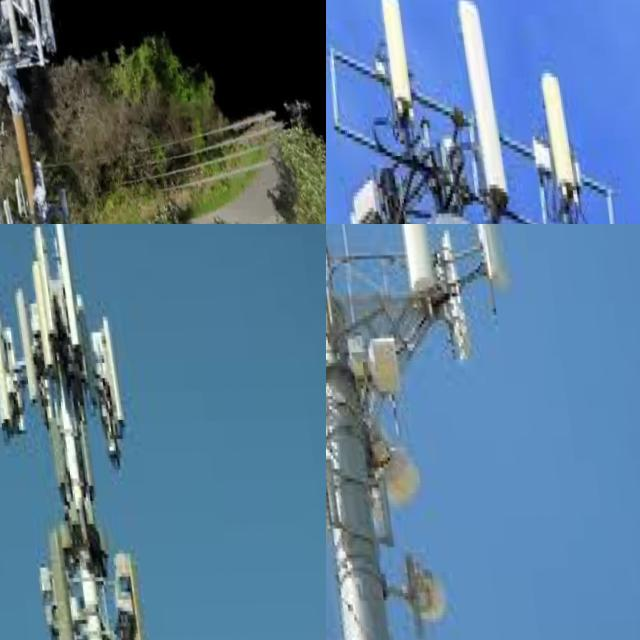GSM Antenna: (447, 0, 511, 196), (529, 47, 580, 192), (431, 224, 473, 364), (369, 0, 415, 117), (38, 524, 83, 640), (21, 238, 56, 382), (105, 549, 155, 640), (50, 224, 87, 346), (94, 307, 123, 435), (385, 224, 436, 296), (458, 224, 517, 286), (0, 280, 20, 436), (4, 168, 27, 220), (26, 0, 43, 62), (1, 0, 20, 54), (29, 159, 47, 200), (57, 181, 70, 224)
Microwave Antenna: (394, 543, 453, 636), (358, 430, 430, 506), (355, 326, 406, 402)
